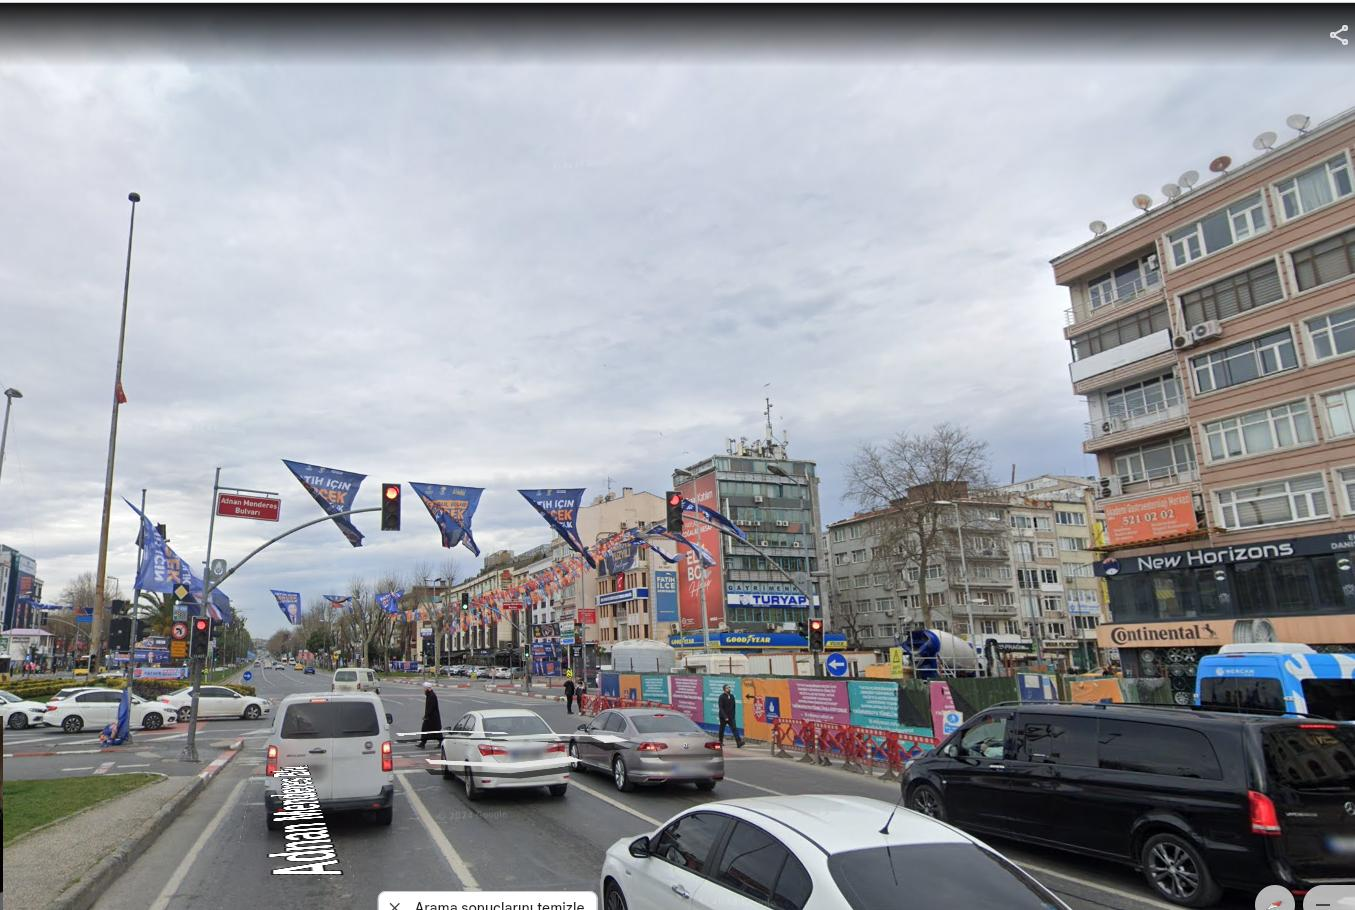redlight: (383, 483, 399, 527), (666, 492, 683, 531), (192, 615, 207, 653), (810, 620, 824, 649)
